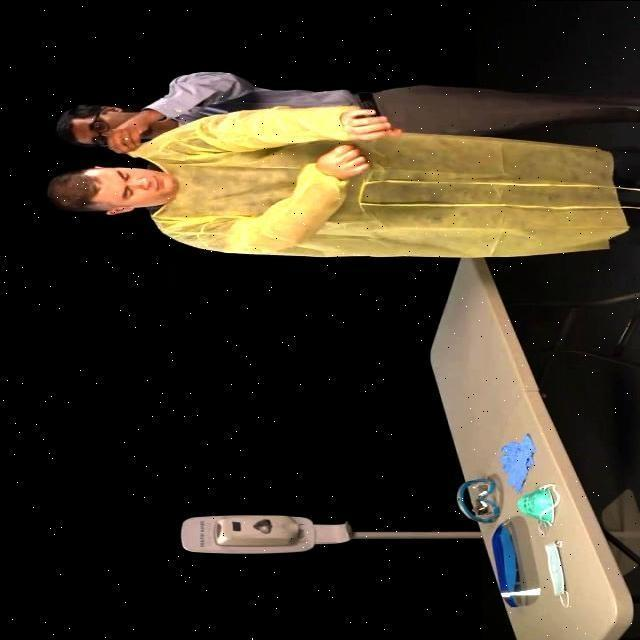no_apron: (344, 102, 396, 146), (110, 110, 147, 152), (323, 144, 362, 180)
no_hairnet: (128, 158, 174, 210)
